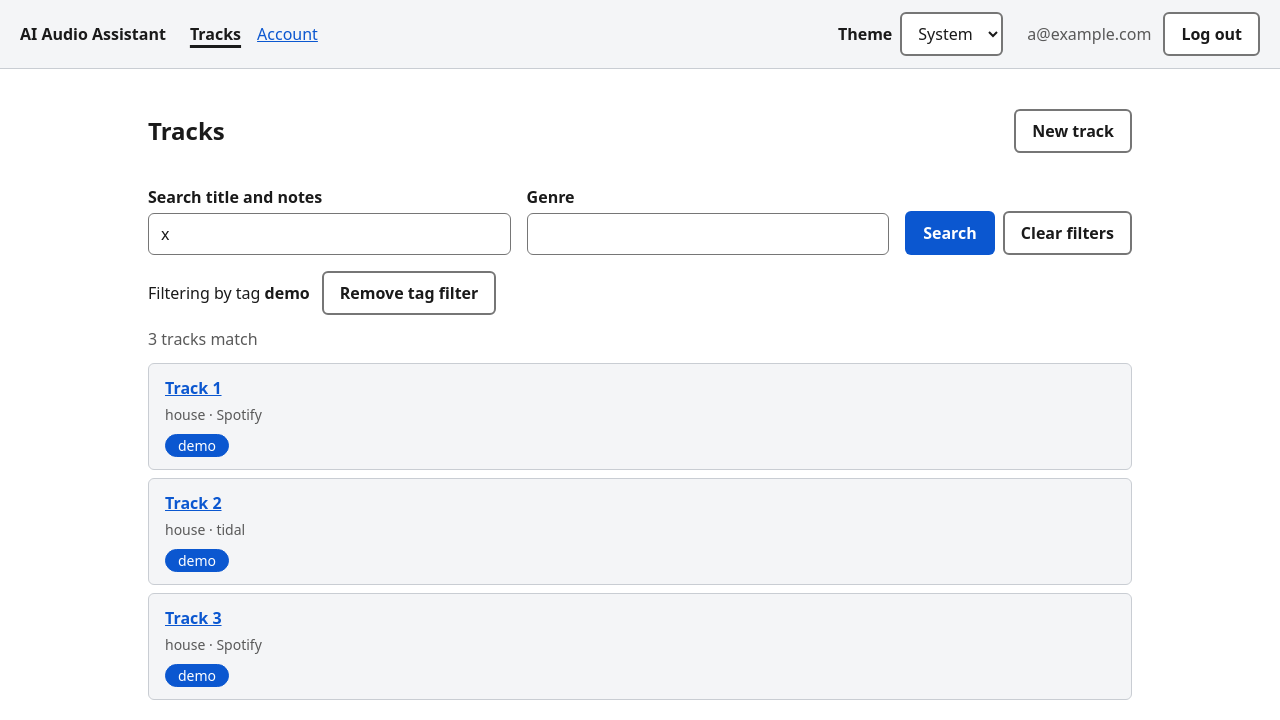
Test case: the URL is the state › shows the tag filter from the URL and removes only that filter
Check: the link "Track 1" is shown, box top-left (165, 377), bottom-right (222, 399)
Check: the text "Filtering by tag demo" is shown, box top-left (148, 281), bottom-right (310, 305)
Step 1. Click the button "Remove tag filter" → (409, 293), box top-left (322, 271), bottom-right (496, 315)
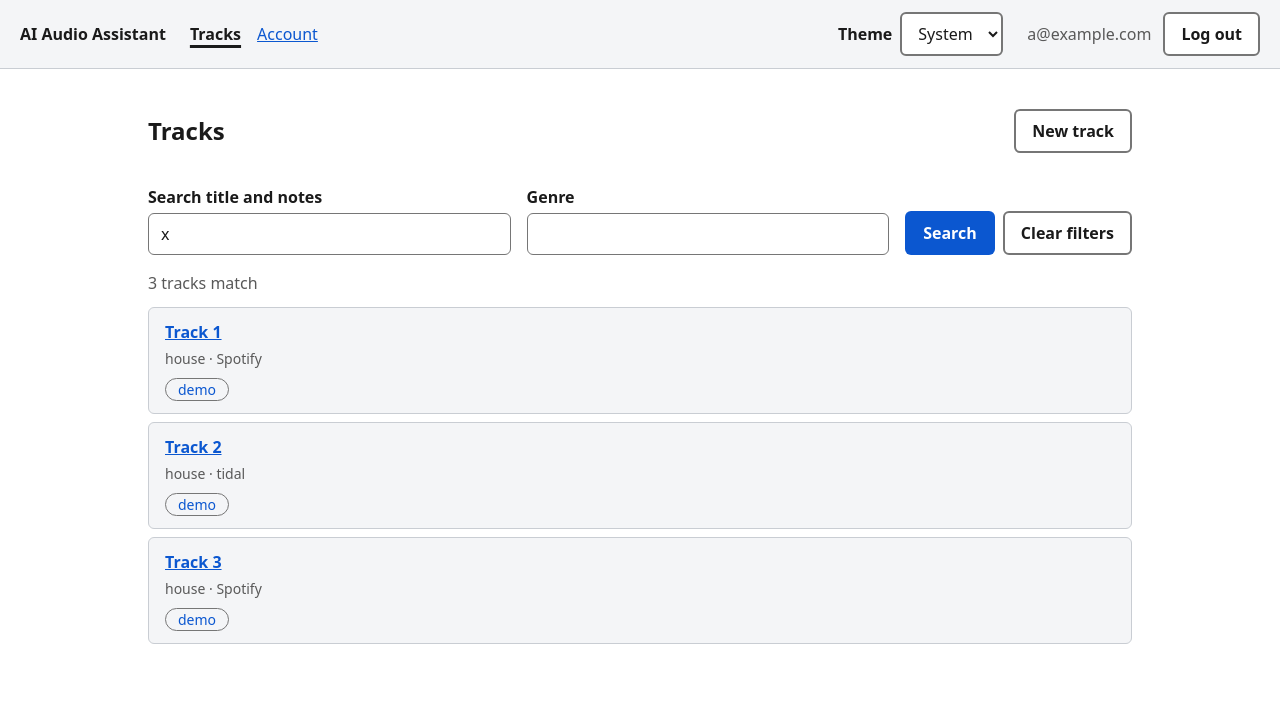
Check: the button "Remove tag filter" is gone
